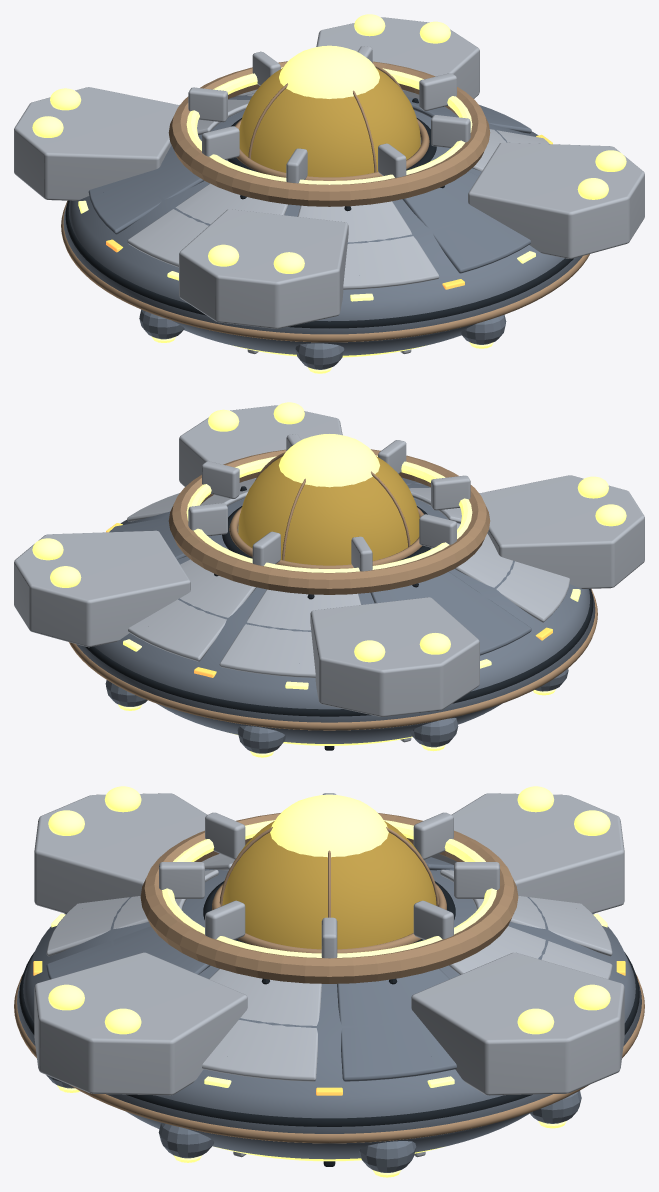
File: ufo-boss.glb
3 renders of one model, top to bottom at view 1: azimuth 30°, elevation 25°; view 2: azimuth 150°, elevation 25°; view 3: azimuth 270°, elevation 25°, orthographic. The views are drawn at different scales.
Parts seen in each view (by area): view 1: Class Hardware, Upper Rotor, Alien Hull; view 2: Class Hardware, Upper Rotor, Alien Hull; view 3: Class Hardware, Upper Rotor, Alien Hull.
Part boxes in pixels (bbox=[...]): Class Hardware: bbox=[14, 14, 644, 328]; Upper Rotor: bbox=[78, 64, 552, 301]; Alien Hull: bbox=[61, 93, 589, 373]; Class Hardware: bbox=[14, 402, 644, 716]; Upper Rotor: bbox=[106, 452, 580, 689]; Alien Hull: bbox=[69, 481, 597, 757]; Class Hardware: bbox=[34, 786, 624, 1095]; Upper Rotor: bbox=[33, 821, 625, 1095]; Alien Hull: bbox=[14, 869, 644, 1177].
Size of the model in its own units: 2.05 by 1.18 by 2.05.
